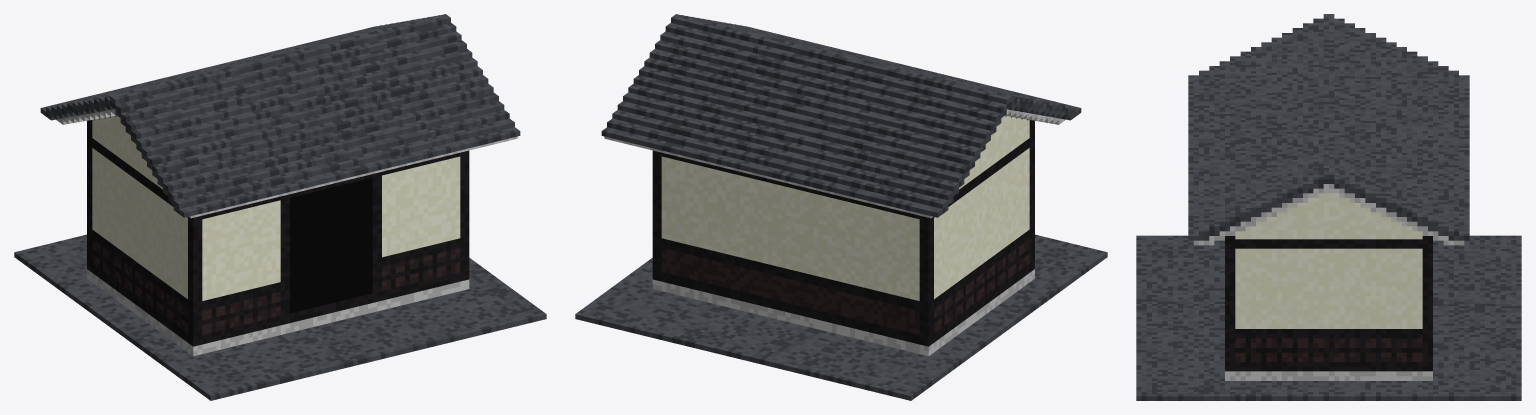
File: 0Build3.obj
3 views of the same model, side by side, from view 1: azimuth 30°, elevation 25°; view 2: azimuth 150°, elevation 25°; view 3: azimuth 270°, elevation 25° (orthographic). The views are drawn at different scales.
Bounding box in the file's own units: 7.3 × 4.8 × 7.4.
Materials: 1 (1 with a texture image).
